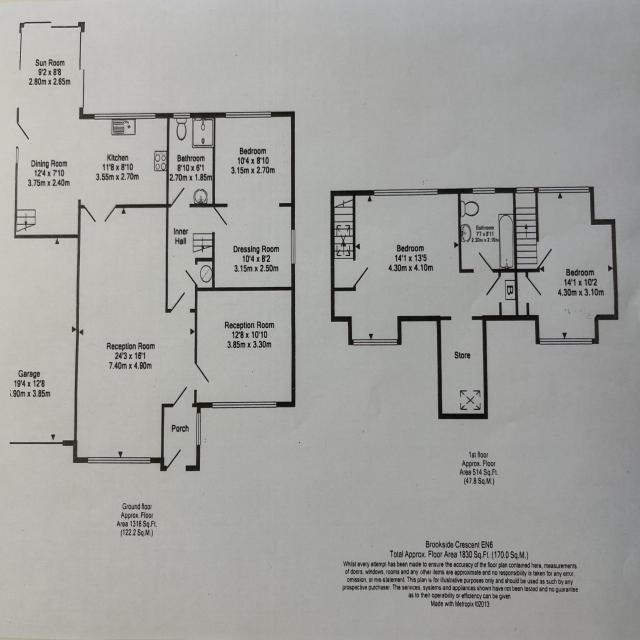DOOR: (473, 250, 494, 273), (536, 241, 553, 269), (353, 259, 370, 287), (194, 362, 210, 391)
ROOM: (330, 188, 519, 346), (514, 186, 619, 345), (212, 111, 295, 291), (194, 287, 295, 408), (170, 186, 191, 208), (212, 206, 228, 234)
WINDOW: (212, 401, 277, 409), (374, 188, 438, 196), (170, 290, 191, 313), (94, 113, 156, 120), (538, 186, 589, 194), (539, 338, 593, 345), (225, 111, 272, 118), (353, 339, 397, 346), (291, 229, 295, 264), (472, 188, 495, 194), (516, 187, 534, 194), (173, 113, 190, 119)
